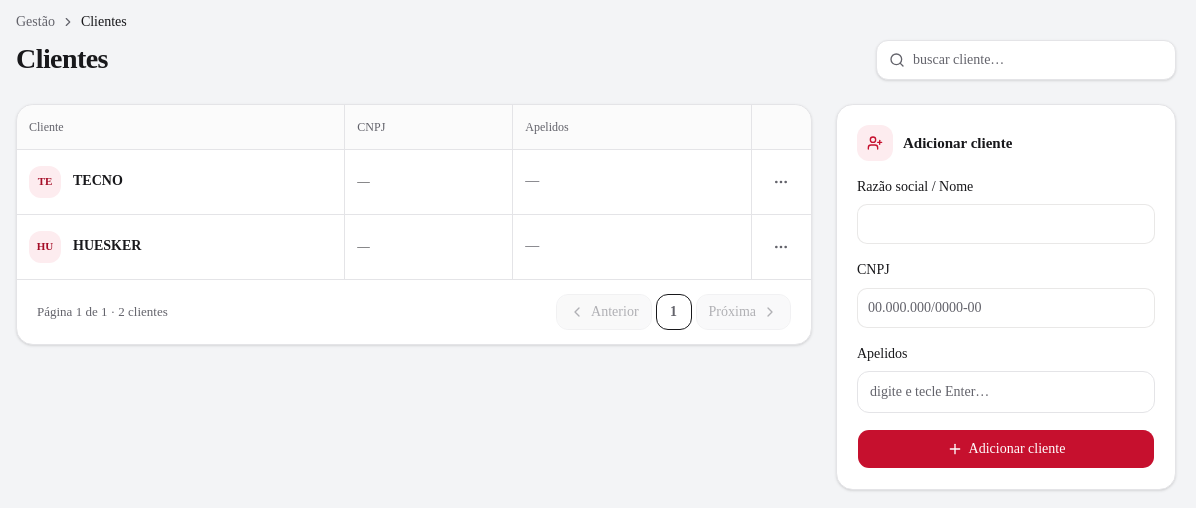
Scenario: ClientesPage › busca fica no topo, junto do título — sem subtítulo, contador ou rótulo "Clientes cadastrados" (pedido 28/09/2026)
The width and height of the screenshot is (1196, 508).
Check: the text "TECNO" is shown, box [73,172,123,191]
Type "TECNO" into the field with placeholder "buscar cliente…" at x=1038, y=60, box [913,50,1163,70]
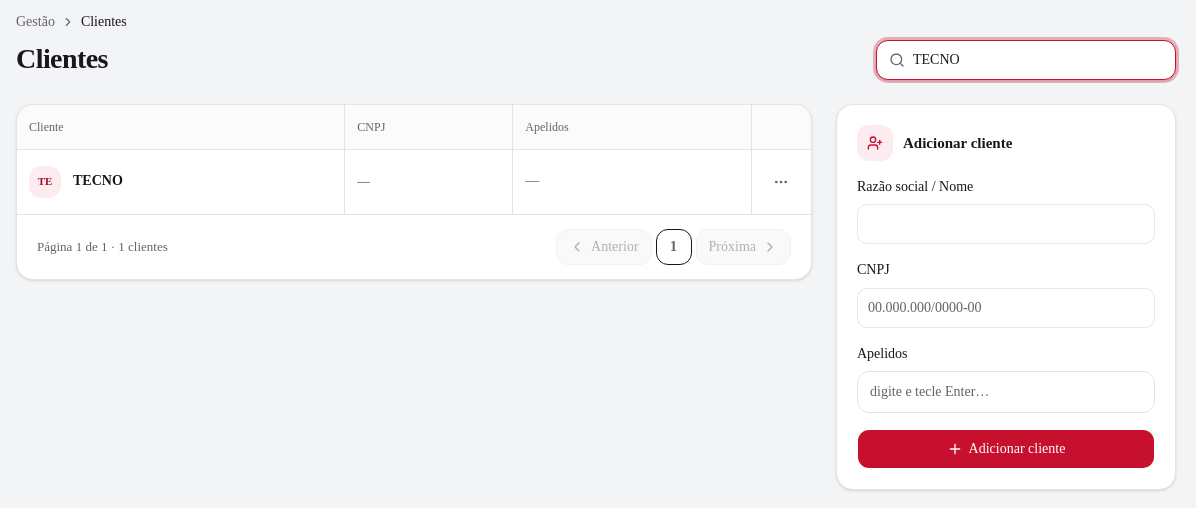
Check: the text "HUESKER" is gone
